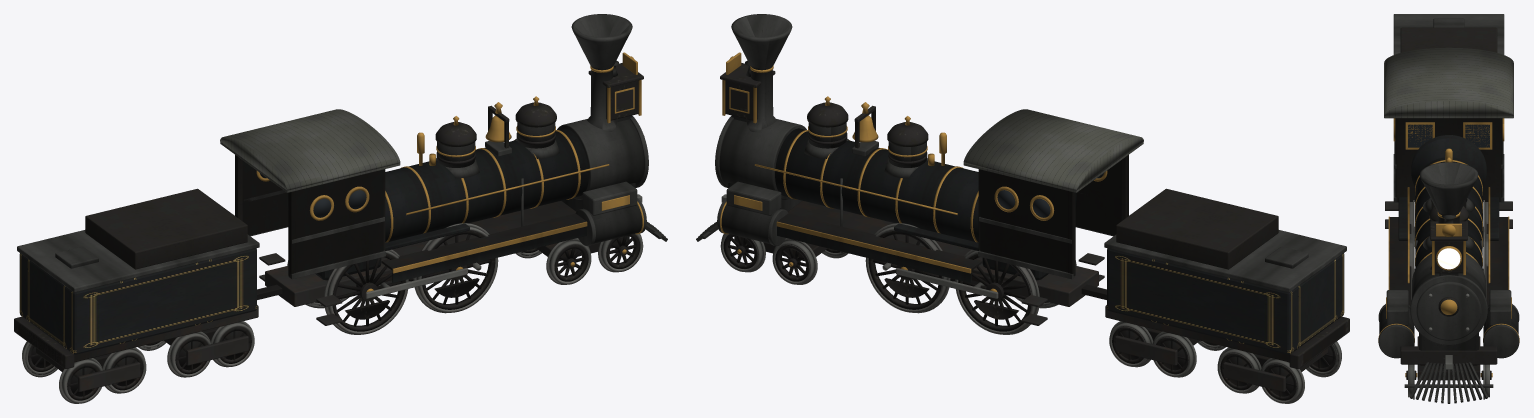
File: loco-black.glb
3 views of the same model, side by side, from view 1: azimuth 30°, elevation 25°; view 2: azimuth 150°, elevation 25°; view 3: azimuth 270°, elevation 25° (orthographic). The views are drawn at different scales.
Visible parts, largest first — view 1: Tender, Cab, Boiler, Frame, Smokebox, Stack, Driver_R1, Driver_R2, RunBoard_R, Valance_R, Lead_R1, Cylinder_R (+17 smaller); view 2: Tender, Cab, Boiler, Frame, Smokebox, Stack, Driver_L1, Driver_L2, RunBoard_L, Valance_L, Lead_L1, Cylinder_L (+17 smaller); view 3: Cab, Tender, Pilot, SmokeboxDoor, Stack, Boiler, FireboxTop, SmokeboxRing, RunBoard_L, RunBoard_R, Smokebox, CylHeadF_L (+30 smaller).
Boxes of the visible parts, bbox=[...] form: Tender: bbox=[14, 188, 259, 368]; Cab: bbox=[220, 109, 400, 279]; Boiler: bbox=[385, 128, 588, 241]; Frame: bbox=[265, 201, 575, 306]; Smokebox: bbox=[557, 119, 644, 199]; Stack: bbox=[571, 14, 632, 131]; Driver_R1: bbox=[324, 249, 408, 334]; Driver_R2: bbox=[413, 223, 498, 313]; RunBoard_R: bbox=[381, 213, 586, 270]; Valance_R: bbox=[392, 226, 586, 282]; Lead_R1: bbox=[546, 238, 591, 284]; Cylinder_R: bbox=[585, 204, 642, 243]; Tender: bbox=[1104, 188, 1349, 368]; Cab: bbox=[963, 109, 1143, 279]; Boiler: bbox=[775, 128, 978, 241]; Frame: bbox=[788, 201, 1098, 306]; Smokebox: bbox=[719, 119, 806, 199]; Stack: bbox=[731, 14, 792, 131]; Driver_L1: bbox=[955, 249, 1039, 334]; Driver_L2: bbox=[865, 223, 950, 313]; RunBoard_L: bbox=[777, 213, 982, 270]; Valance_L: bbox=[777, 226, 971, 282]; Lead_L1: bbox=[772, 238, 817, 284]; Cylinder_L: bbox=[721, 204, 778, 243]; Cab: bbox=[1384, 47, 1513, 202]; Tender: bbox=[1393, 14, 1504, 54]; Pilot: bbox=[1400, 346, 1497, 403]; SmokeboxDoor: bbox=[1416, 281, 1481, 340]; Stack: bbox=[1419, 162, 1478, 269]; Boiler: bbox=[1415, 157, 1482, 268]; FireboxTop: bbox=[1411, 135, 1486, 186]; SmokeboxRing: bbox=[1410, 275, 1487, 345]; RunBoard_L: bbox=[1486, 217, 1508, 327]; RunBoard_R: bbox=[1389, 217, 1411, 327]; Smokebox: bbox=[1412, 254, 1485, 297]; CylHeadF_L: bbox=[1483, 324, 1519, 358].
Bounding box in the file's own units: 13.04 × 4.71 × 2.7.
Materials: 12 (9 with a texture image).
